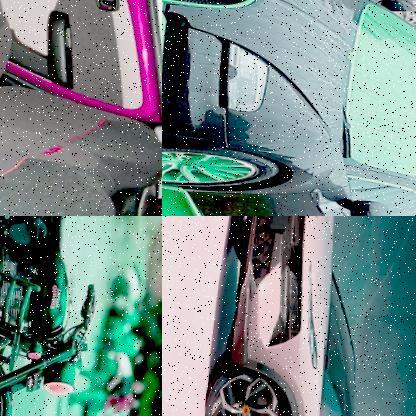bike: (0, 216, 117, 416)
car: (162, 0, 416, 216), (204, 216, 391, 416)
